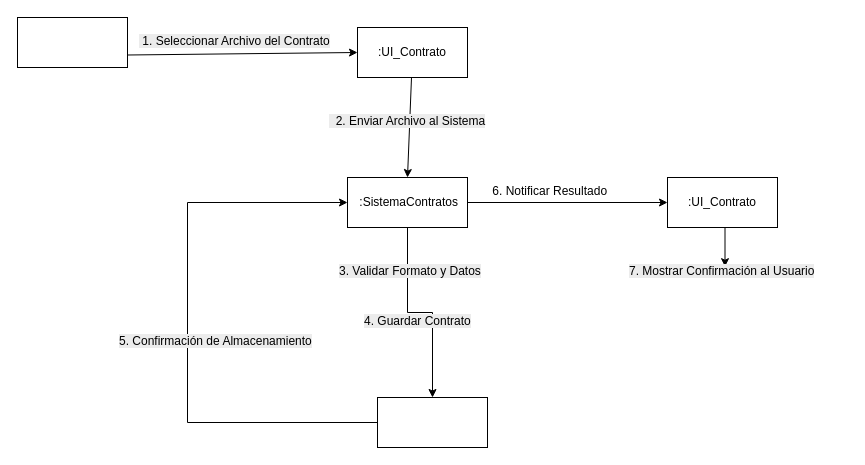
This 865x465 diagram has some shape labels left out. Here are the shapes that lost their labels. From the top down, the centre of each, then its label:
At (72,42): ":Usuario".
At (432,422): ":BD_Contratos".
